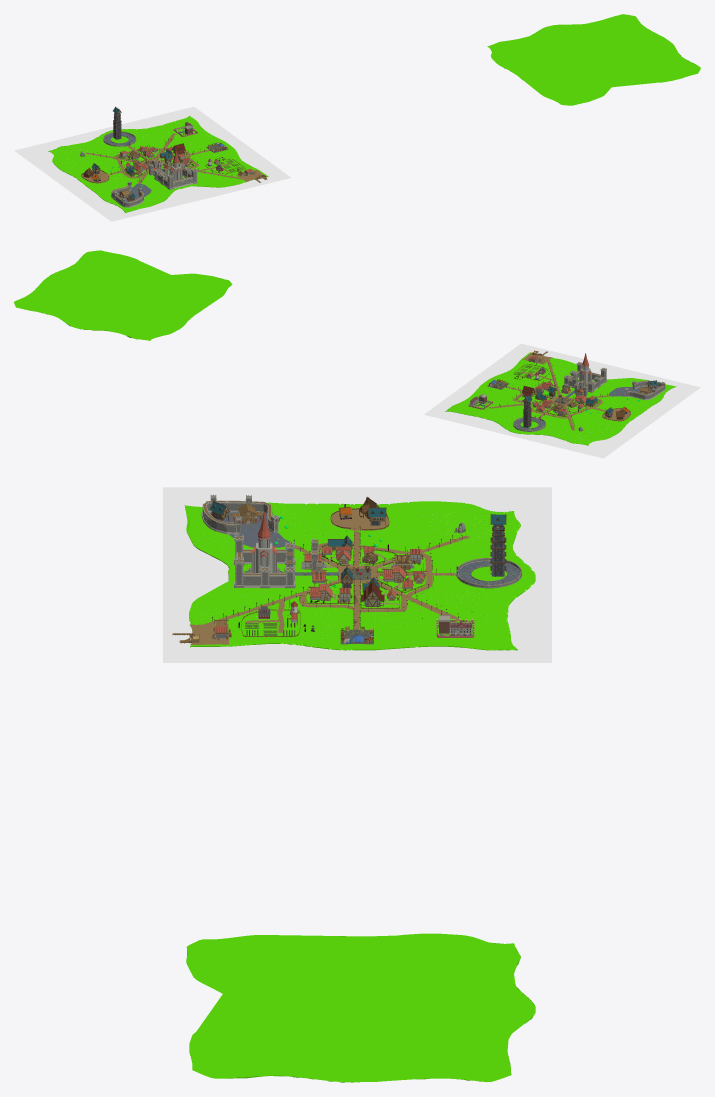
Rendered from island7_model.glb.
3 views of the same model, one above another, from view 1: azimuth 30°, elevation 25°; view 2: azimuth 150°, elevation 25°; view 3: azimuth 270°, elevation 25° (orthographic). The views are drawn at different scales.
Parts seen in each view (by area): view 1: Cube.001, Cube.003, sea, path, WonderWalls_SecondAge; view 2: Cube.001, Cube.003, sea, path, WonderWalls_SecondAge, Wall_SecondAge.002; view 3: Cube.001, Cube.003, sea, path, WonderWalls_SecondAge, Wall_SecondAge.002, Temple_SecondAge_Level2, House_3.001.
Part boxes in pixels (left/top/right/bottom): Cube.001: left=487, top=14, right=700, bottom=105; Cube.003: left=48, top=116, right=268, bottom=212; sea: left=14, top=106, right=291, bottom=221; path: left=86, top=133, right=242, bottom=183; WonderWalls_SecondAge: left=154, top=163, right=197, bottom=189; Cube.001: left=14, top=250, right=232, bottom=340; Cube.003: left=445, top=352, right=676, bottom=445; sea: left=424, top=343, right=700, bottom=458; path: left=489, top=360, right=609, bottom=430; WonderWalls_SecondAge: left=564, top=361, right=606, bottom=392; Wall_SecondAge.002: left=626, top=380, right=665, bottom=399; Cube.001: left=186, top=933, right=535, bottom=1082; Cube.003: left=184, top=501, right=535, bottom=650; sea: left=163, top=487, right=551, bottom=662; path: left=203, top=531, right=469, bottom=632; WonderWalls_SecondAge: left=234, top=534, right=295, bottom=588; Wall_SecondAge.002: left=201, top=500, right=276, bottom=534; Temple_SecondAge_Level2: left=245, top=512, right=283, bottom=572; House_3.001: left=490, top=514, right=506, bottom=576.
Size of the model in its own units: 1078 by 59.35 by 300.
126 materials, 7 textured.
